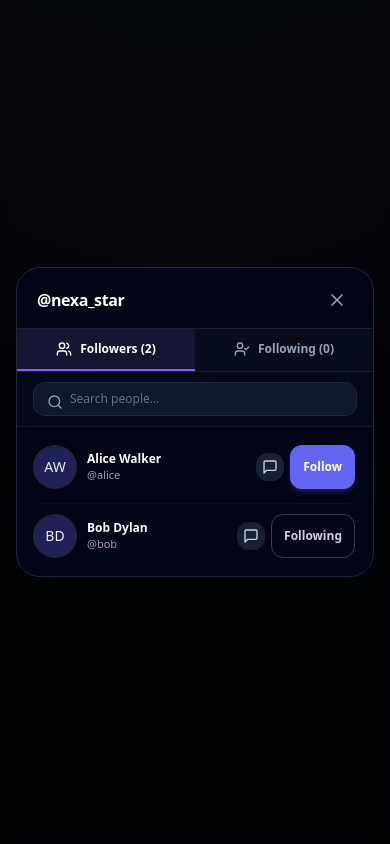
Scenario: FollowersFollowingModal Component Suite › renders modal with follower list and tab switching
The width and height of the screenshot is (390, 844).
Expected: the heading "@nexa_star" is shown, [37, 288, 124, 312]
Expected: the dialog is shown, [16, 267, 374, 577]
Note: Switch to following tab
Click the button "Following (0)". click: click(284, 350)
box: [195, 329, 373, 371]
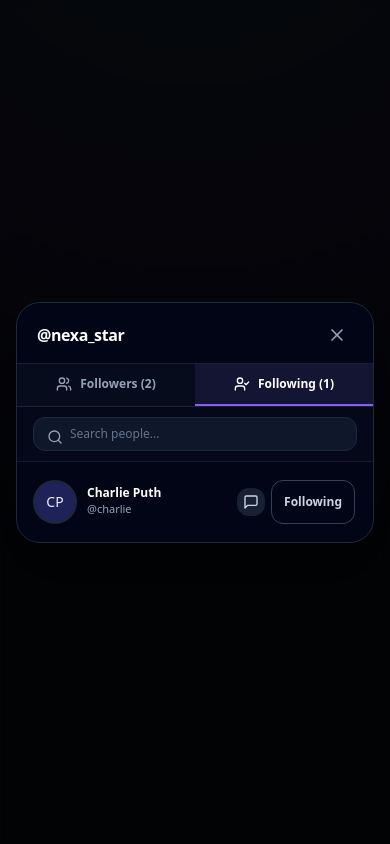
Expected: the text "Charlie Puth" is shown, [87, 485, 161, 501]
